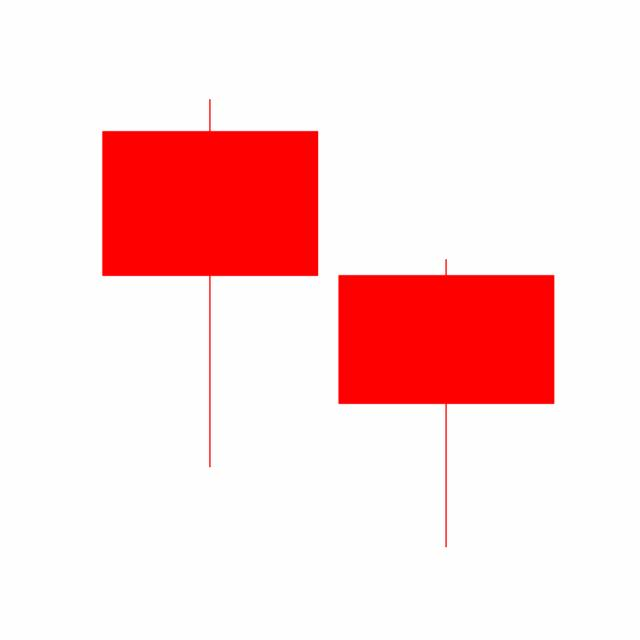Hammer: (327, 255, 565, 550)
